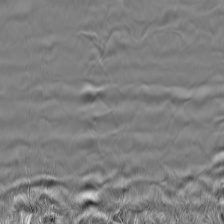cavities: (54, 80, 139, 156)
